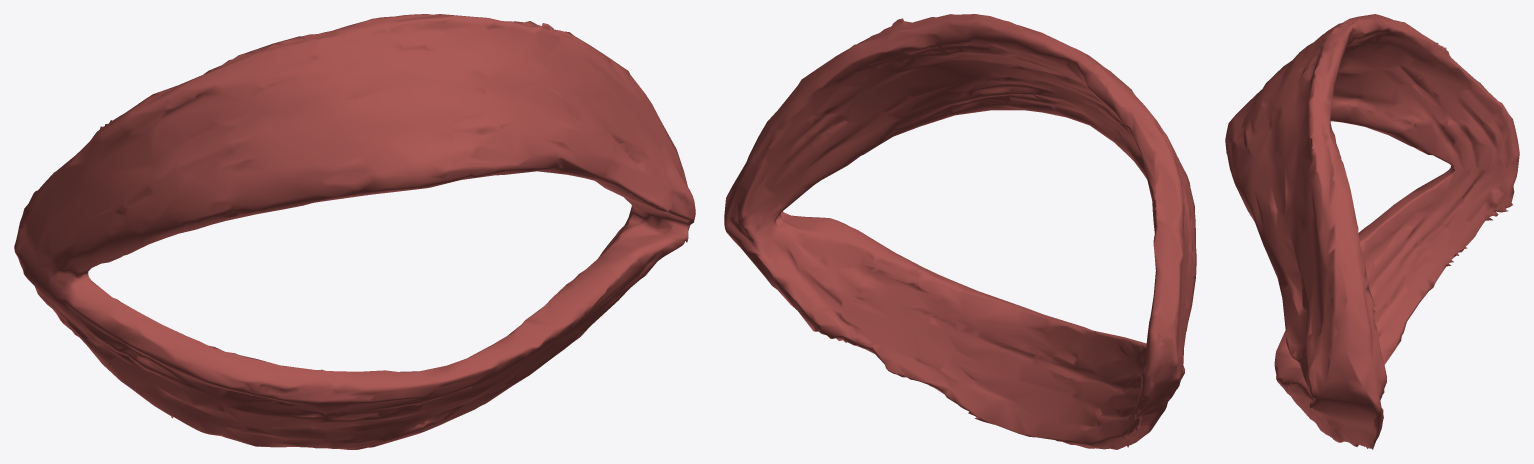
The model's file is FMA46782.glb.
3 renders of one model, left to right at view 1: azimuth 30°, elevation 25°; view 2: azimuth 150°, elevation 25°; view 3: azimuth 270°, elevation 25°, orthographic. The views are drawn at different scales.
Parts seen in each view (by area): view 1: FMA46782; view 2: FMA46782; view 3: FMA46782.
Part boxes in pixels (box(x1,y1,x2,y2)): FMA46782: box(14, 14, 695, 449); FMA46782: box(724, 14, 1196, 449); FMA46782: box(1225, 14, 1519, 449).
Bounding box in the file's own units: 0.0327 × 0.0234 × 0.0169.
